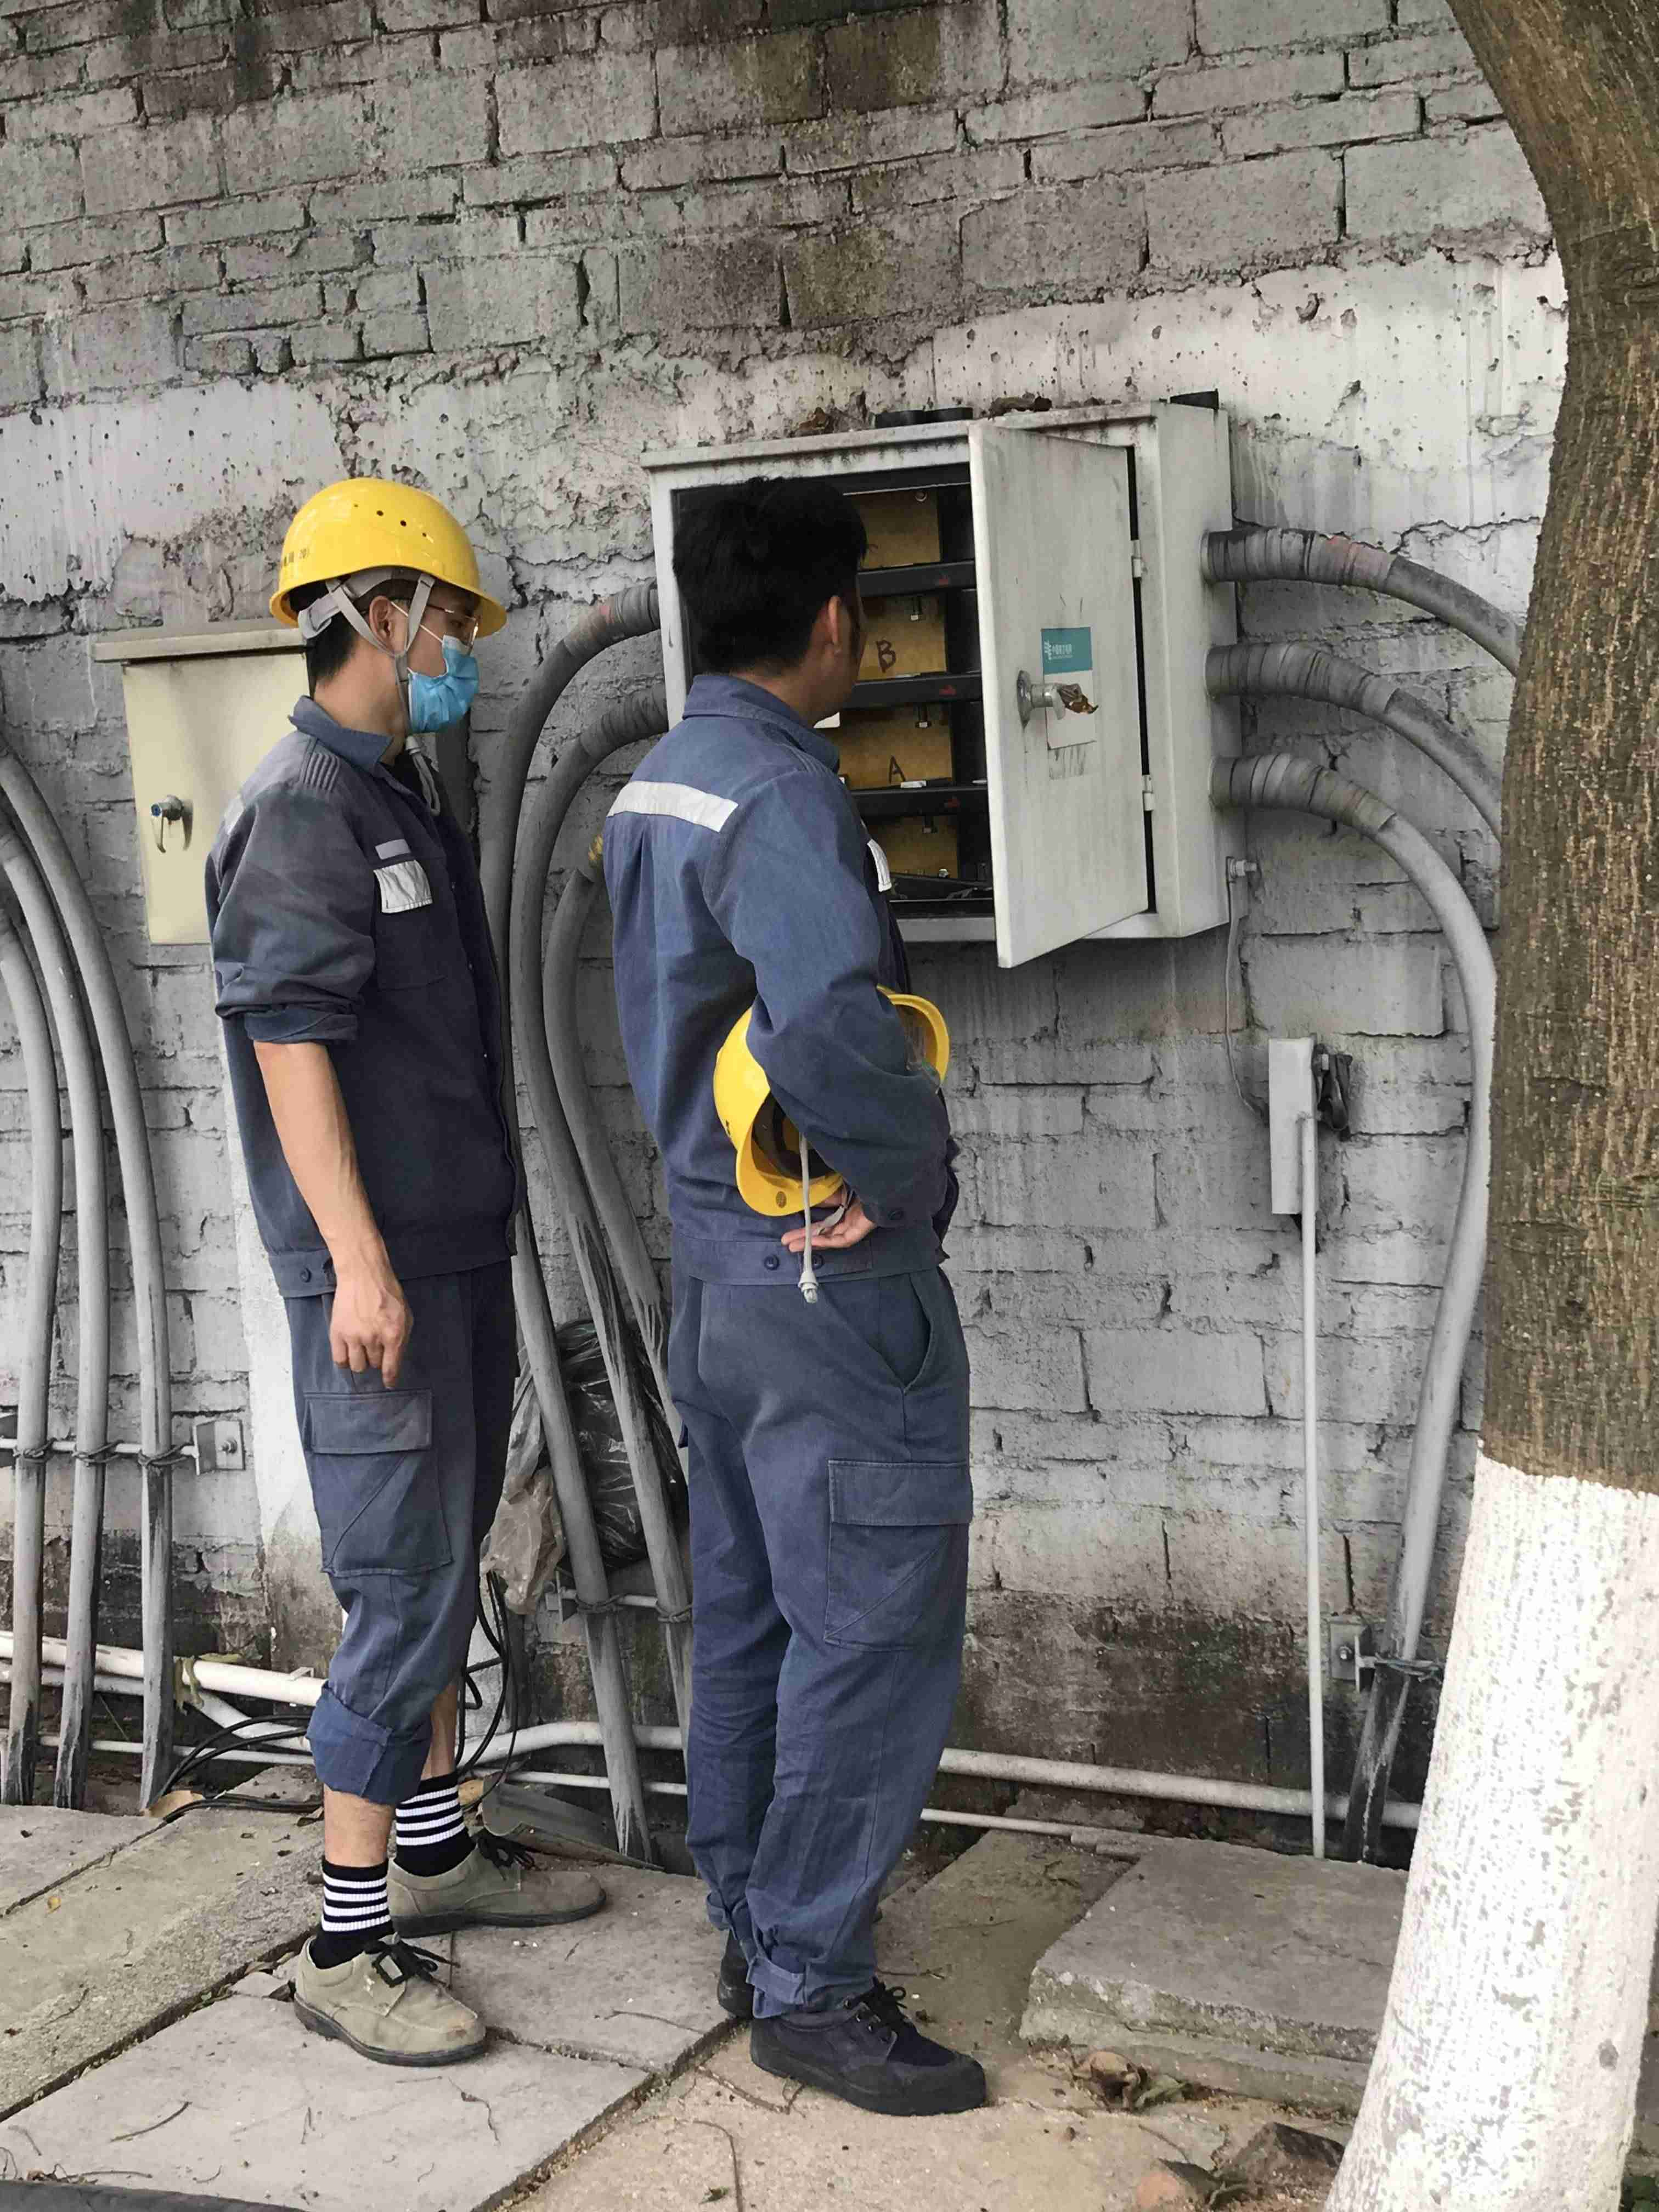downsuit: (666, 1301, 979, 2006), (288, 1306, 530, 1824)
upsuit: (603, 702, 967, 1266), (204, 707, 533, 1263)
wrongbottom: (300, 1679, 410, 1879)
wrongtop: (213, 968, 425, 1390)
